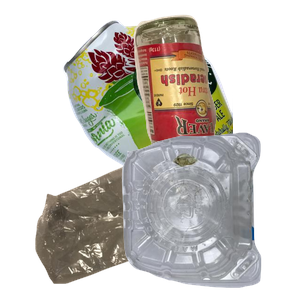glass: (131, 12, 300, 170)
metal: (60, 18, 300, 198)
plastic: (119, 130, 300, 300)
trash: (33, 145, 270, 300)
